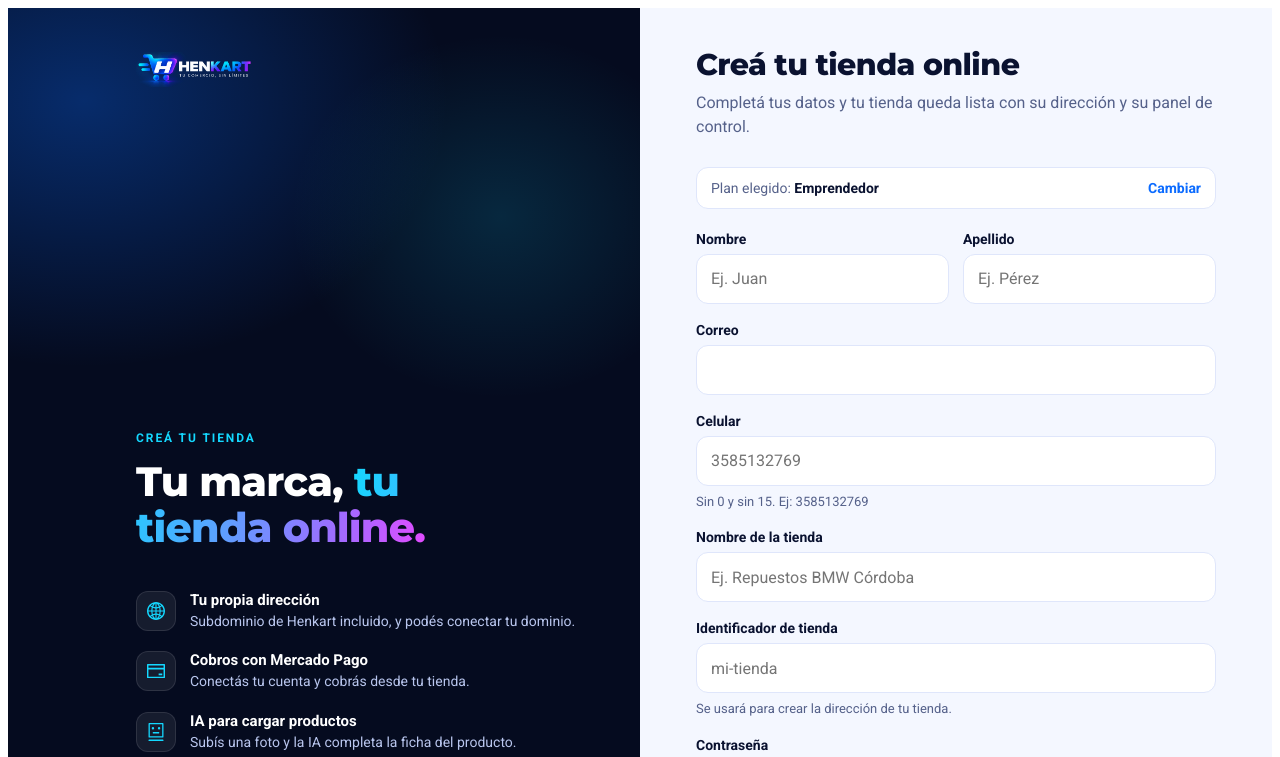
Test case: el identificador de tienda › al salir del campo se limpia el guion colgado
Type "kiosco-" into the field labelled "Identificador de tienda" at (956, 668), box [696,643,1216,693]
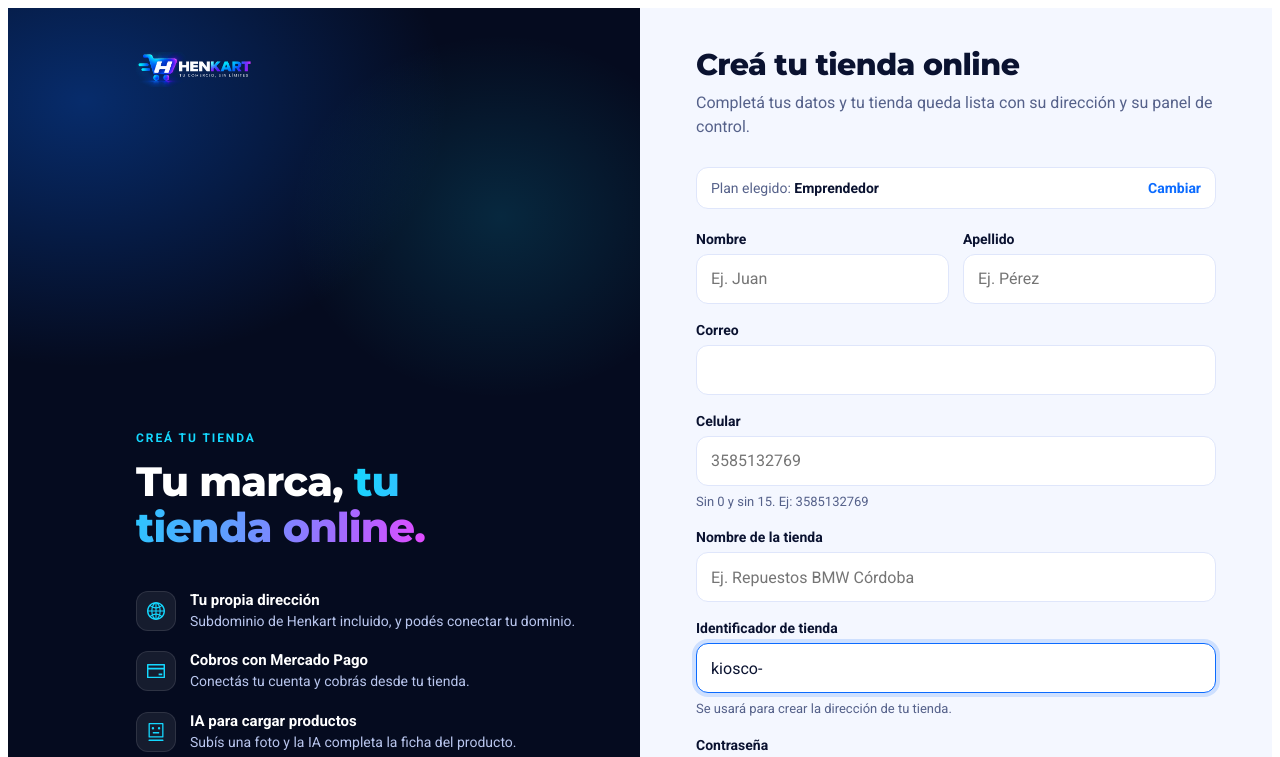
Click the field labelled "Nombre de la tienda" at (956, 577), box [696,552,1216,602]
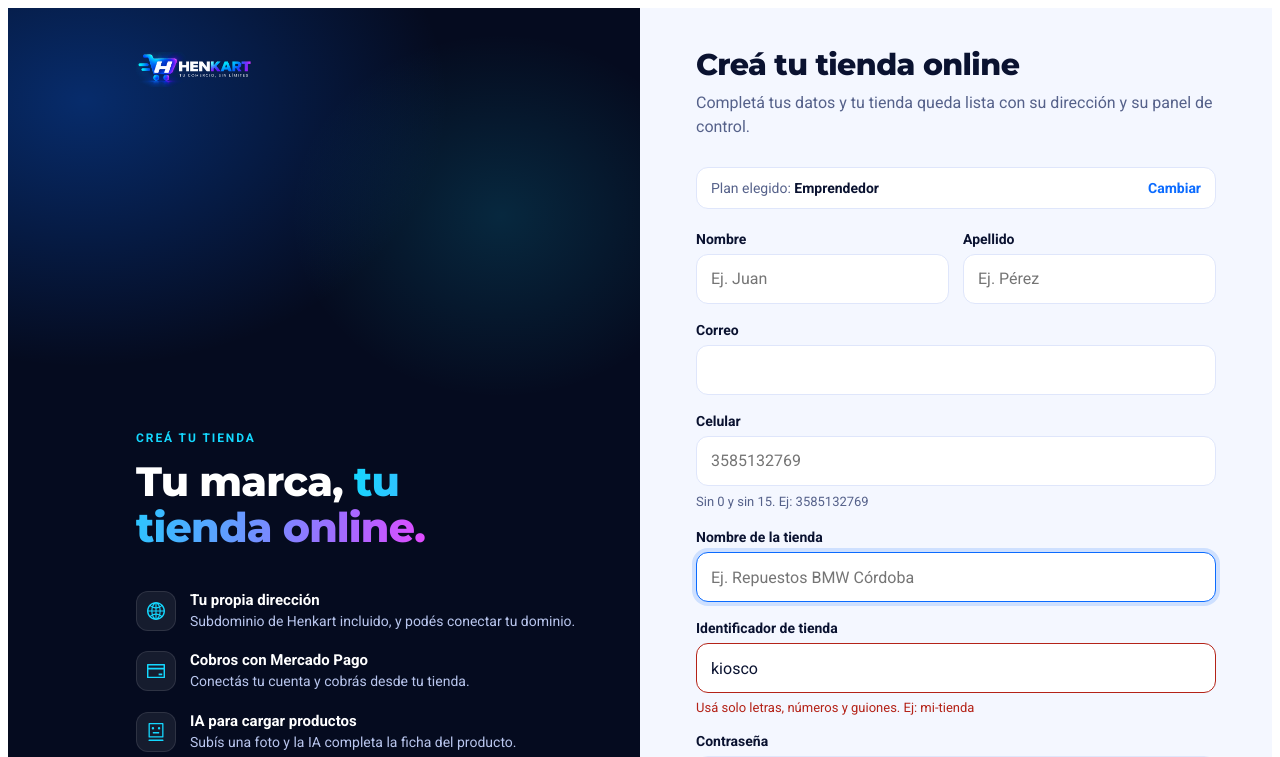
Now the field labelled "Identificador de tienda" holds "kiosco", box [696,643,1216,693]
